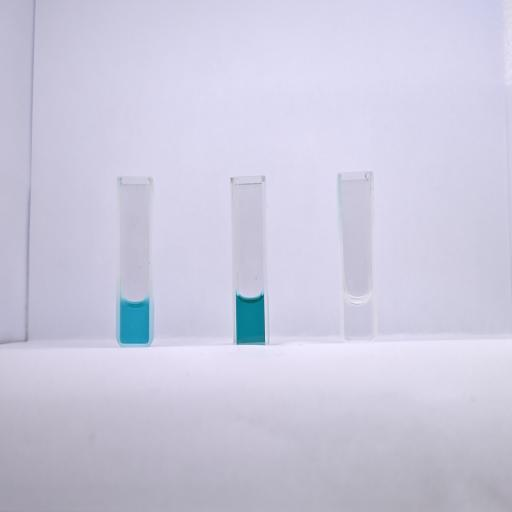cuvette: (335, 169, 379, 347), (228, 173, 271, 349), (114, 173, 156, 350)
liquid: (237, 295, 264, 342), (121, 297, 148, 342), (346, 300, 373, 338)
